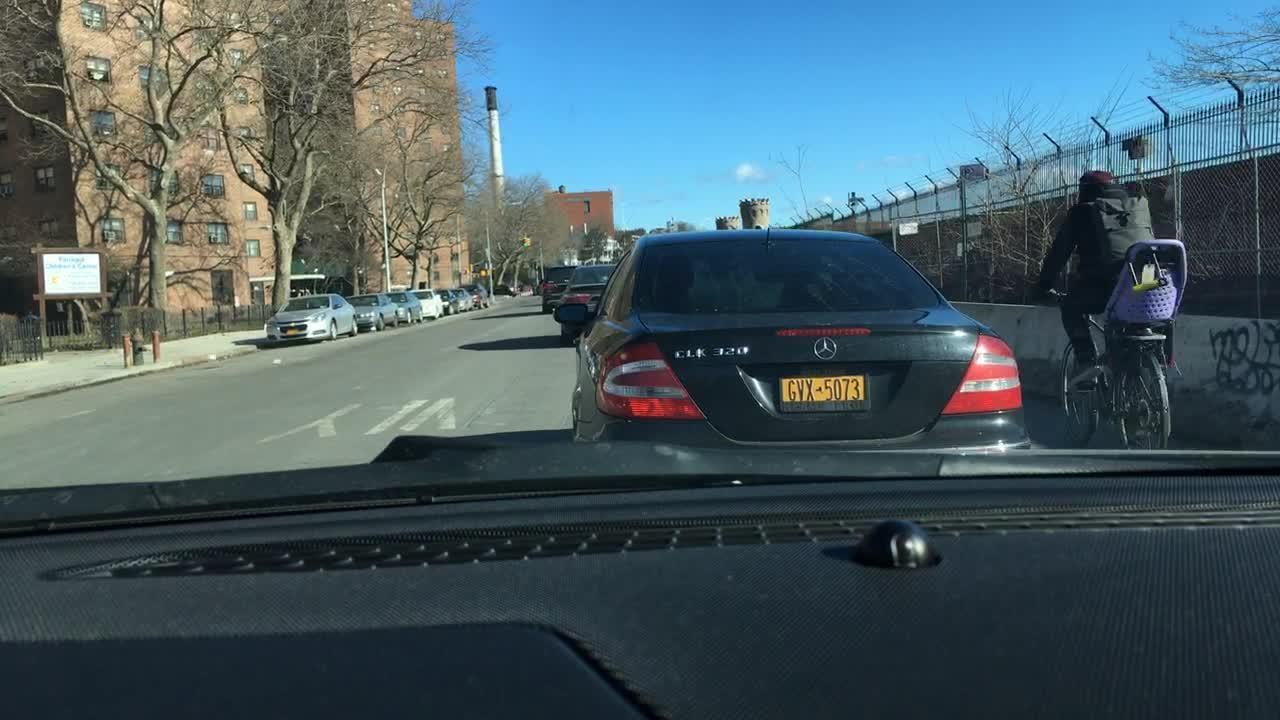Mercedes: (807, 333, 842, 366)
